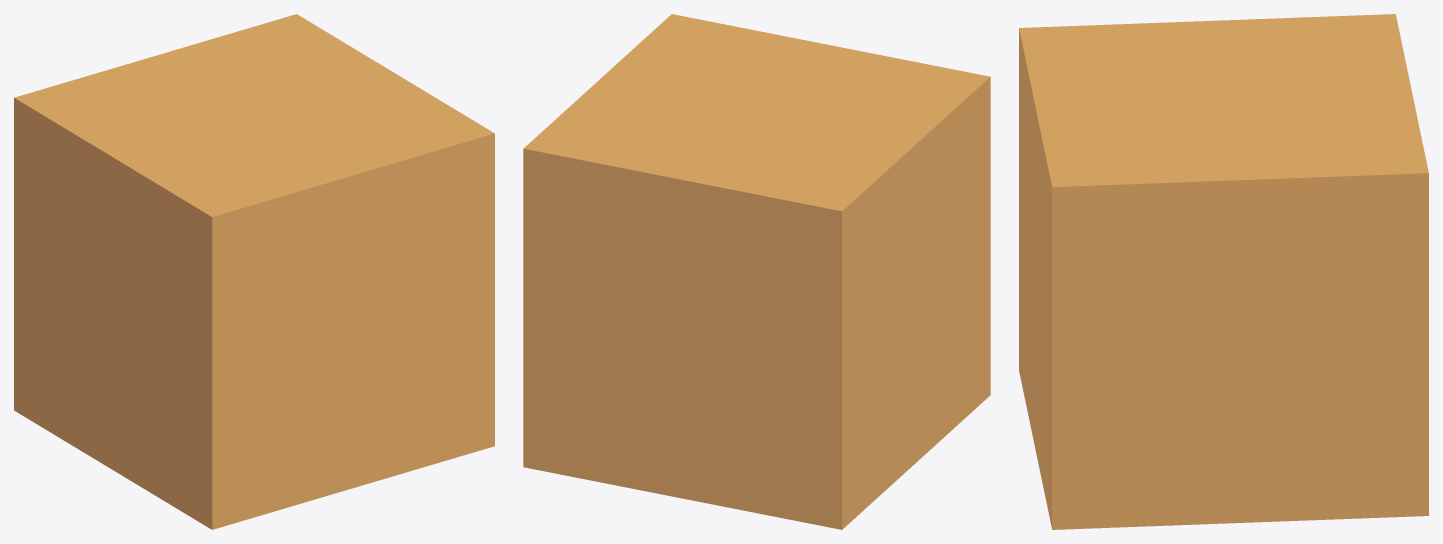
Rendered from crate2.gltf.
3 views of the same model, side by side, from view 1: azimuth 30°, elevation 25°; view 2: azimuth 150°, elevation 25°; view 3: azimuth 270°, elevation 25° (orthographic). The views are drawn at different scales.
Parts seen in each view (by area): view 1: crate2; view 2: crate2; view 3: crate2.
Part boxes in pixels (x1,y1,x2,y2): crate2: [14, 14, 494, 529]; crate2: [523, 14, 990, 529]; crate2: [1019, 14, 1428, 529].
Size of the model in its own units: 1.46 by 1.35 by 1.46.
